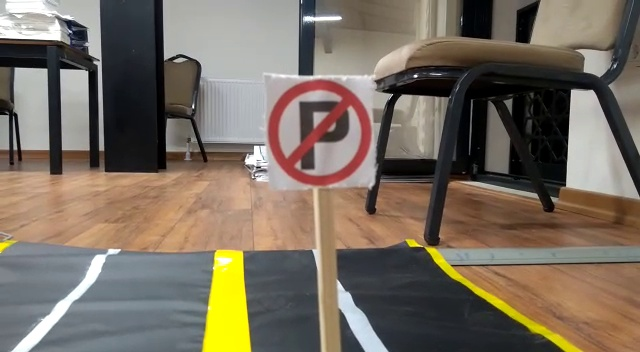park_yapilmaz: (265, 74, 377, 186)
